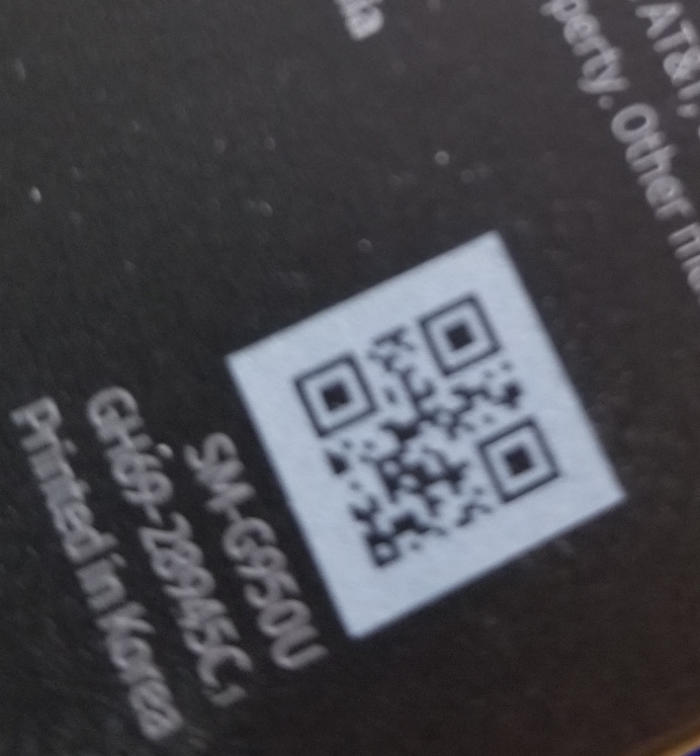QR_CODE: (269, 275, 590, 577)
